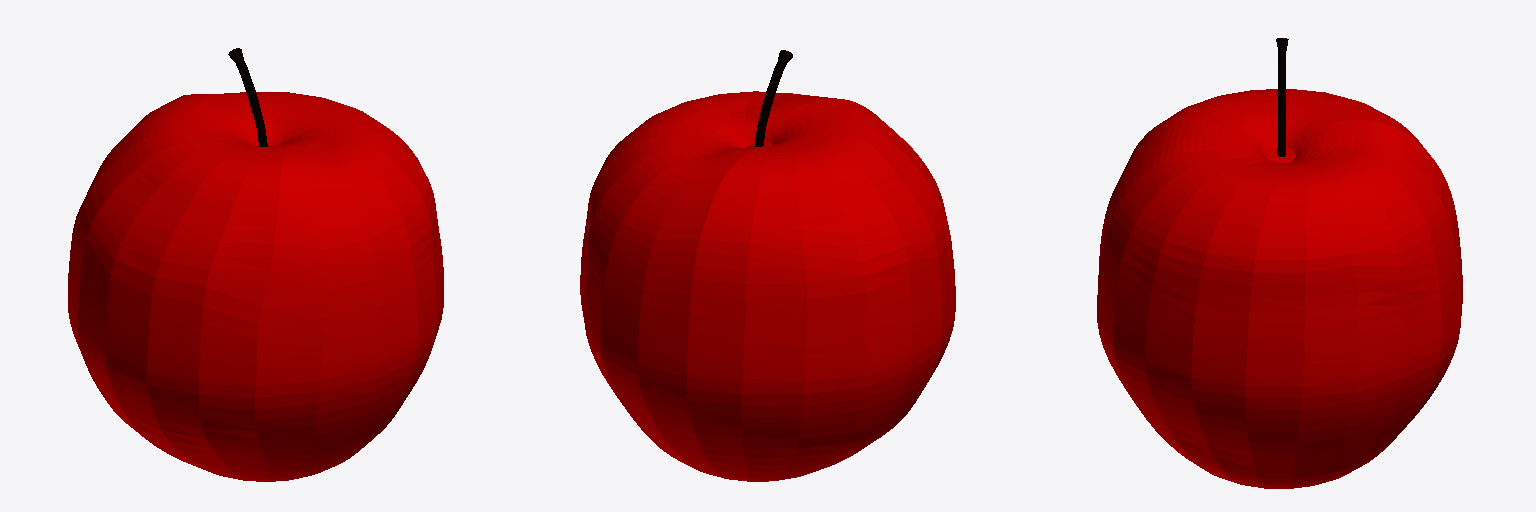
File: manzana.obj
The picture shows the model from 3 angles: view 1: azimuth 30°, elevation 25°; view 2: azimuth 150°, elevation 25°; view 3: azimuth 270°, elevation 25°; orthographic projection.
Visible parts, largest first — view 1: BezierCurve.001_BezierCurve; view 2: BezierCurve.001_BezierCurve; view 3: BezierCurve.001_BezierCurve.
Boxes of the visible parts, x1,y1,x2,y2 form: BezierCurve.001_BezierCurve: [68, 48, 443, 481]; BezierCurve.001_BezierCurve: [580, 50, 955, 481]; BezierCurve.001_BezierCurve: [1097, 38, 1462, 488].
Size of the model in its own units: 2.6 by 3.21 by 2.54.